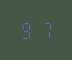nine: (19, 20, 35, 40)
seven: (36, 19, 52, 39)
